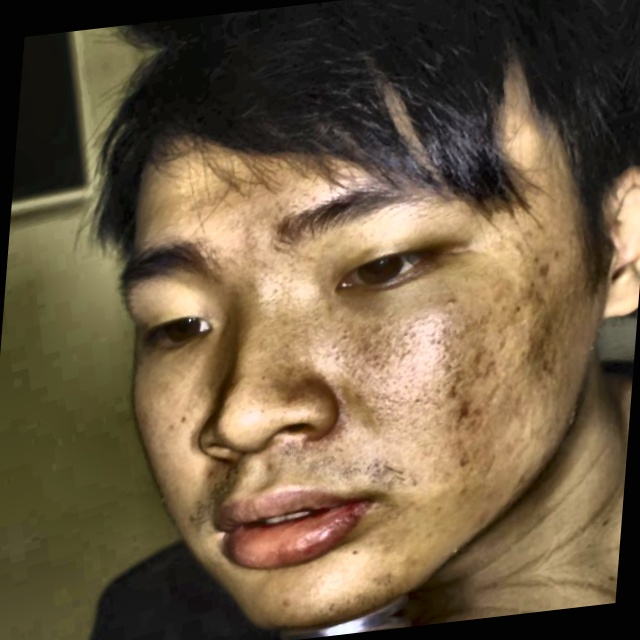comedone: (526, 244, 562, 294), (447, 448, 484, 473), (458, 397, 485, 429)
